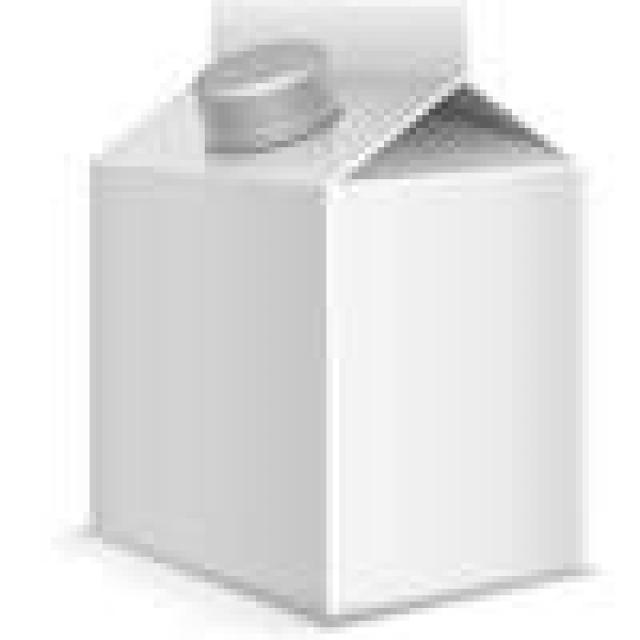non_white_jug: (83, 24, 589, 627)
